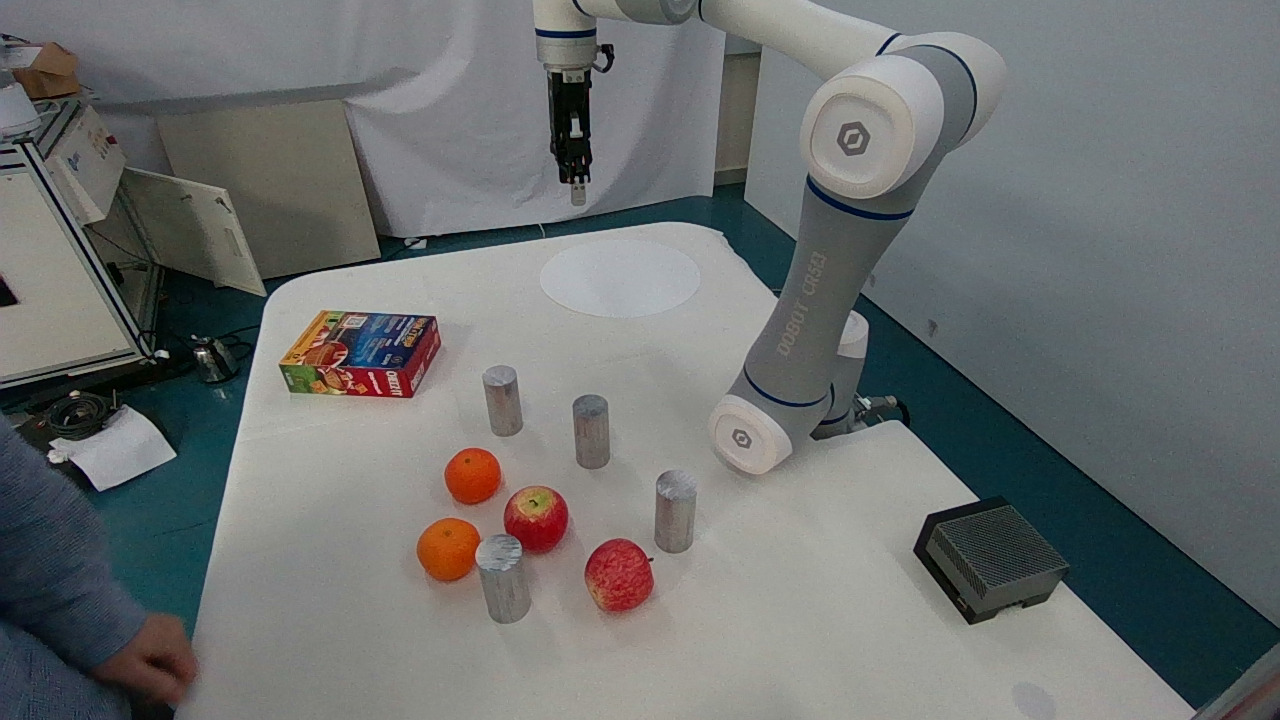apple: (576, 527, 663, 628), (487, 479, 582, 557)
metal rod: (467, 518, 551, 618), (553, 369, 627, 480), (642, 455, 711, 564), (467, 356, 531, 440)
orange: (434, 426, 513, 506), (407, 507, 486, 585)
